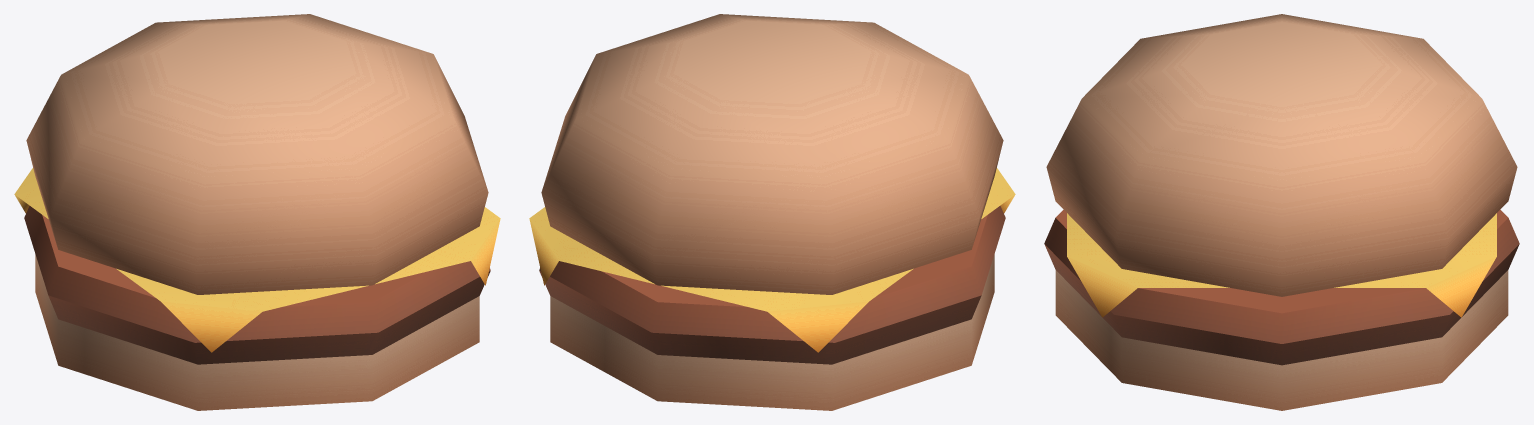
File: burger-cheese.glb
3 views of the same model, side by side, from view 1: azimuth 30°, elevation 25°; view 2: azimuth 150°, elevation 25°; view 3: azimuth 270°, elevation 25° (orthographic).
Visible parts, largest first — view 1: bun-top, patty, bun-bottom, cheese; view 2: bun-top, patty, bun-bottom, cheese; view 3: bun-top, patty, bun-bottom, cheese.
Part boxes in pixels (<box>): bun-top: <box>26,14,488,294</box>; patty: <box>24,206,490,364</box>; bun-bottom: <box>35,254,479,410</box>; cheese: <box>14,168,500,352</box>; bun-top: <box>541,14,1003,294</box>; patty: <box>539,206,1005,364</box>; bun-bottom: <box>550,254,994,410</box>; cheese: <box>529,168,1015,352</box>; bun-top: <box>1046,14,1517,296</box>; patty: <box>1044,209,1519,365</box>; bun-bottom: <box>1055,270,1508,410</box>; cheese: <box>1067,213,1496,317</box>.
Bounding box in the file's own units: 0.378 × 0.22 × 0.378.
1 material, 1 textured.
